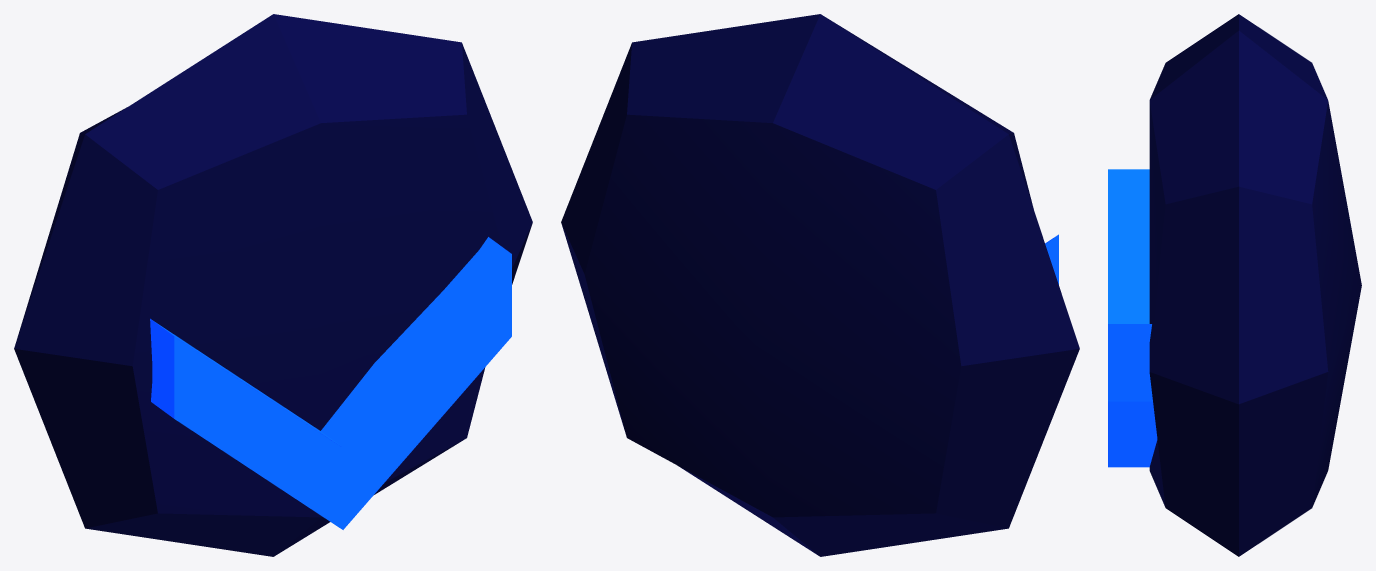
The model's file is orbDOWN.fbx.
3 views of the same model, side by side, from view 1: azimuth 30°, elevation 25°; view 2: azimuth 150°, elevation 25°; view 3: azimuth 270°, elevation 25° (orthographic). The views are drawn at different scales.
Parts seen in each view (by area): view 1: Cube.002, Cube.003; view 2: Cube.002; view 3: Cube.002, Cube.003.
Boxes of the visible parts, x1,y1,x2,y2 form: Cube.002: [14, 14, 532, 556]; Cube.003: [150, 237, 511, 529]; Cube.002: [561, 14, 1079, 556]; Cube.002: [1149, 14, 1361, 556]; Cube.003: [1108, 169, 1157, 467].
Size of the model in its own units: 168 by 168 by 75.75.
Materials: 2 (2 with a texture image).
